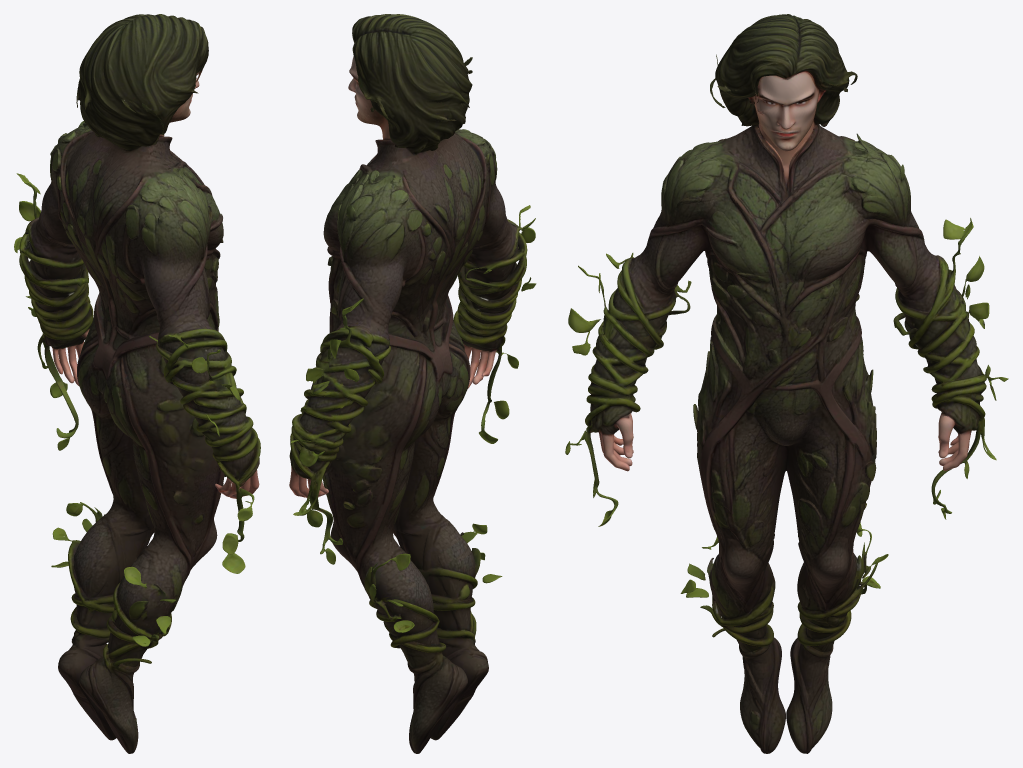
The model's file is Foliage.glb.
3 views of the same model, side by side, from view 1: azimuth 30°, elevation 25°; view 2: azimuth 150°, elevation 25°; view 3: azimuth 270°, elevation 25° (orthographic). The views are drawn at different scales.
Parts seen in each view (by area): view 1: threedium_node_08bf3cc8-f850-4de0-89b1-010b00dec884; view 2: threedium_node_08bf3cc8-f850-4de0-89b1-010b00dec884; view 3: threedium_node_08bf3cc8-f850-4de0-89b1-010b00dec884.
Boxes of the visible parts, x1=… form: threedium_node_08bf3cc8-f850-4de0-89b1-010b00dec884: x1=14, y1=14, x2=260, y2=753; threedium_node_08bf3cc8-f850-4de0-89b1-010b00dec884: x1=289, y1=14, x2=536, y2=753; threedium_node_08bf3cc8-f850-4de0-89b1-010b00dec884: x1=565, y1=14, x2=1008, y2=753.
Bounding box in the file's own units: 0.2009 × 0.9992 × 0.5376.
1 material, 1 textured.
